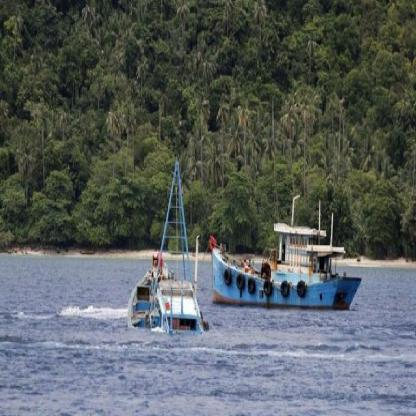boat: (133, 262, 200, 340)
fishing boat: (210, 210, 363, 311)
